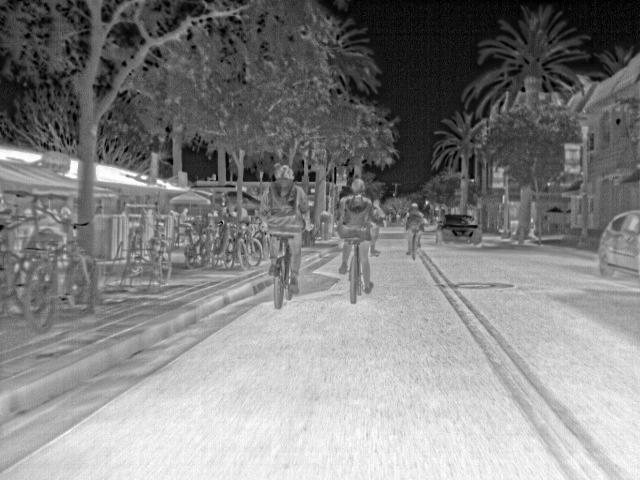car: (597, 208, 640, 277), (437, 214, 484, 246)
person: (265, 164, 304, 236), (340, 175, 372, 241), (369, 199, 389, 257), (406, 200, 424, 230), (180, 206, 196, 226), (529, 217, 538, 237)
